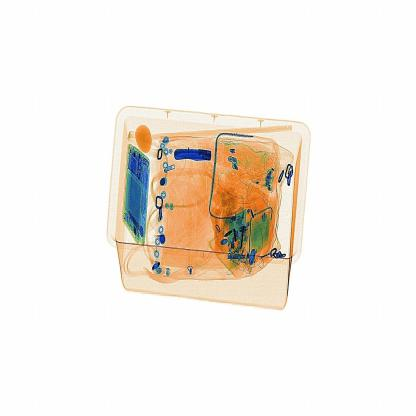knife: (172, 144, 218, 174)
